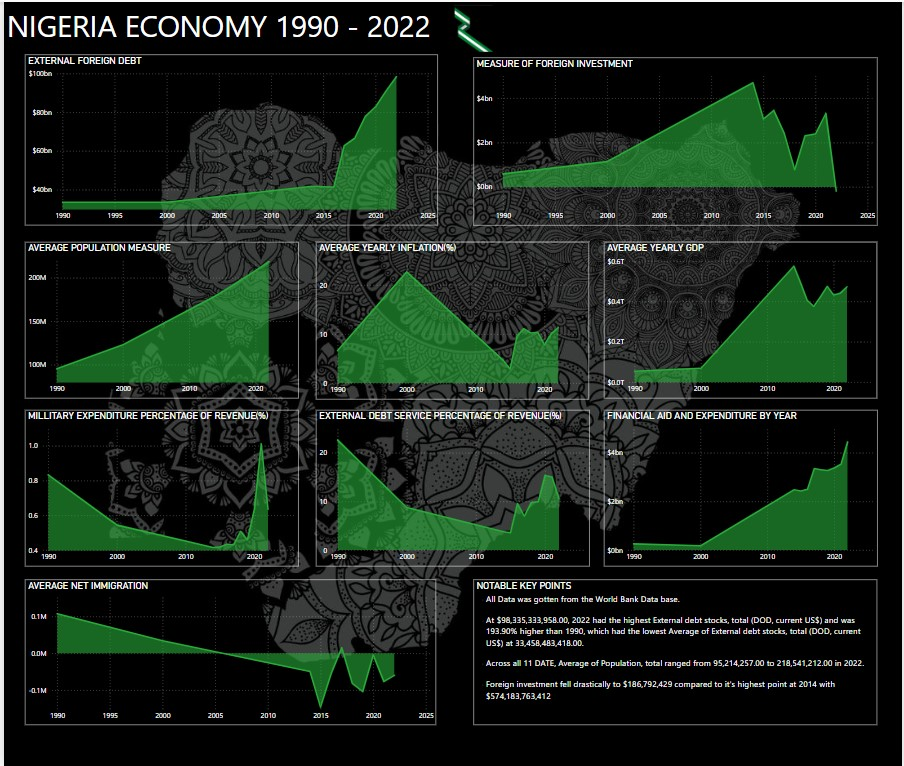

This screenshot's page, from the dashboard's own definition file:
{"tool":"powerbi","page":{"name":"Page 1","canvas":[1700,1450],"ordinal":0},"visuals":[{"type":"areaChart","title":"EXTERNAL FOREIGN DEBT","fields":{"Category":["Table2.Year_Column"],"Y":["Avg(Table2.External debt stocks, total (DOD, current US$))"]},"box":[38.4,98.7,781.3,323.5],"z":0},{"type":"areaChart","title":"FINANCIAL AID AND EXPENDITURE BY YEAR","fields":{"Category":["Table2.DATE"],"Y":["Avg(Table2.Net official development assistance and official aid received (current US$))"]},"box":[1135,773.1,518.2,296.1],"z":1000},{"type":"areaChart","title":"AVERAGE YEARLY INFLATION(%)","fields":{"Category":["Table2.DATE"],"Y":["Avg(Table2.Inflation, GDP deflator (annual %))"]},"box":[590.6,454.3,516.8,298.1],"z":2000},{"type":"areaChart","title":"AVERAGE YEARLY GDP","fields":{"Y":["Avg(Table2.GDP (current US$))"],"Category":["Table2.DATE"]},"box":[1135.2,455.6,516.7,296.3],"z":3000},{"type":"areaChart","title":"MILLITARY EXPENDITURE PERCENTAGE OF REVENUE(%)","fields":{"Y":["Avg(Table2.Military expenditure (% of GDP))"],"Category":["Table2.DATE"]},"box":[38.4,773.1,518.2,296.1],"z":4000},{"type":"areaChart","title":"EXTERNAL DEBT SERVICE PERCENTAGE OF REVENUE(%)","fields":{"Y":["Avg(Table2.Total debt service (% of exports of goods, services and primary income))"],"Category":["Table2.DATE"]},"box":[589.4,773.1,518.2,296.1],"z":5000},{"type":"areaChart","title":"MEASURE OF FOREIGN INVESTMENT","fields":{"Category":["Table2.DATE"],"Y":["Avg(Table2.Foreign direct investment, net inflows (BoP, current US$))"]},"box":[888.3,104.2,764.9,318],"z":6000},{"type":"areaChart","title":"AVERAGE POPULATION MEASURE","fields":{"Category":["Table2.DATE"],"Y":["Avg(Table2.Population, total)"]},"box":[38.4,455.1,518.2,296.1],"z":7000},{"type":"textbox","box":[0,0,888.3,104.2],"z":8000},{"type":"image","box":[817.8,0,142,99.4],"z":9000},{"type":"areaChart","title":"AVERAGE NET IMMIGRATION","fields":{"Category":["Table2.DATE"],"Y":["Avg(Table2.Net migration)"]},"box":[39.8,1093.2,778,275.4],"z":10000},{"type":"textbox","title":"NOTABLE KEY POINTS","box":[888.8,1093.2,763.8,275.4],"z":11000}]}

Visuals, with their boxes in screenshot pixels (x1, y1, x2, y2), scaled from the page's 1700x1450 canvas onto the 904x766 screenshot:
"EXTERNAL FOREIGN DEBT" areaChart: bbox=(20, 52, 436, 223)
"FINANCIAL AID AND EXPENDITURE BY YEAR" areaChart: bbox=(604, 408, 879, 565)
"AVERAGE YEARLY INFLATION(%)" areaChart: bbox=(314, 240, 589, 397)
"AVERAGE YEARLY GDP" areaChart: bbox=(604, 241, 878, 397)
"MILLITARY EXPENDITURE PERCENTAGE OF REVENUE(%)" areaChart: bbox=(20, 408, 296, 565)
"EXTERNAL DEBT SERVICE PERCENTAGE OF REVENUE(%)" areaChart: bbox=(313, 408, 589, 565)
"MEASURE OF FOREIGN INVESTMENT" areaChart: bbox=(472, 55, 879, 223)
"AVERAGE POPULATION MEASURE" areaChart: bbox=(20, 240, 296, 397)
textbox: bbox=(0, 0, 472, 55)
image: bbox=(435, 0, 510, 53)
"AVERAGE NET IMMIGRATION" areaChart: bbox=(21, 578, 435, 723)
"NOTABLE KEY POINTS" textbox: bbox=(473, 578, 879, 723)
